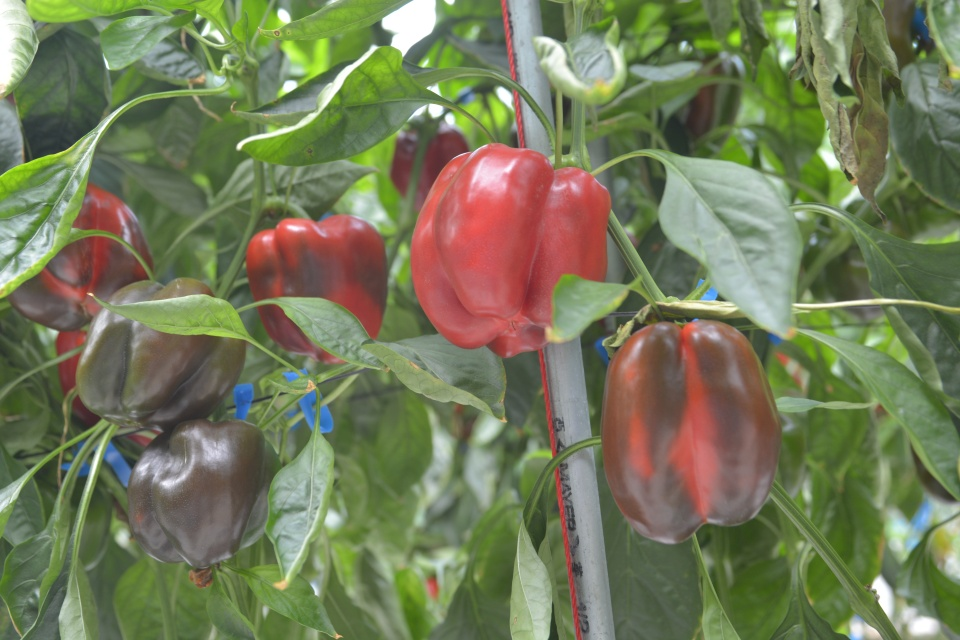fruit: (408, 140, 613, 360), (599, 317, 784, 547), (74, 275, 248, 434), (4, 180, 156, 334), (243, 212, 392, 366), (124, 416, 272, 568), (53, 328, 163, 448), (387, 123, 471, 215)
